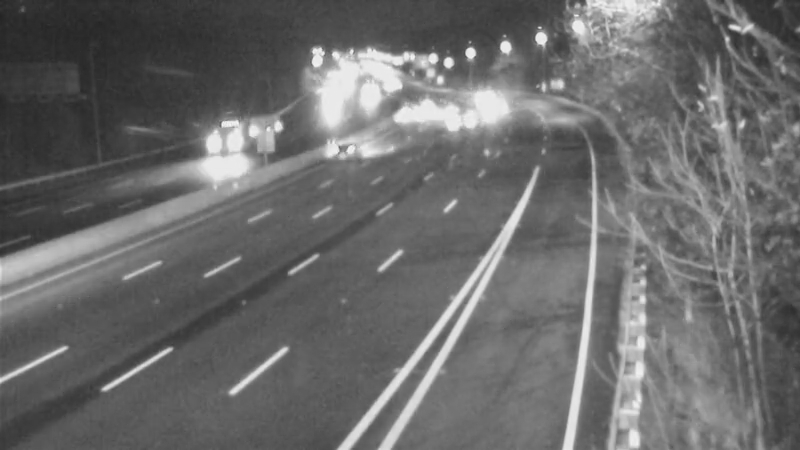vehicle: (461, 72, 511, 122), (387, 80, 437, 130), (385, 85, 435, 135), (431, 98, 481, 148), (468, 79, 518, 129), (320, 124, 370, 174), (216, 113, 266, 163)
